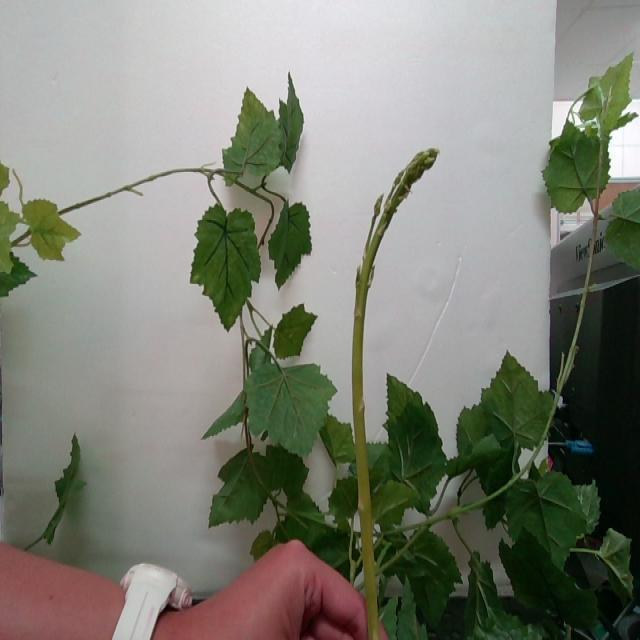aspargus: (351, 150, 442, 640)
